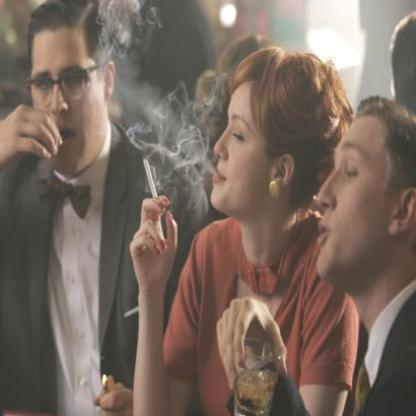cigarette: (140, 157, 160, 200)
person: (181, 53, 356, 415), (0, 0, 140, 415), (316, 98, 416, 415)
smoke: (145, 94, 213, 204), (96, 0, 155, 59)
